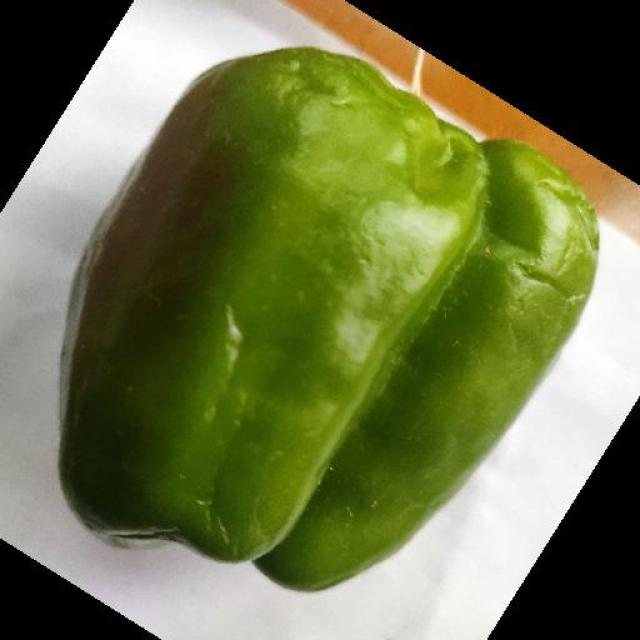Stale_Capsicum: (52, 45, 324, 570)
